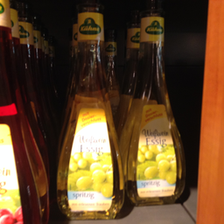vinegar: (54, 10, 134, 219), (120, 16, 194, 205)
